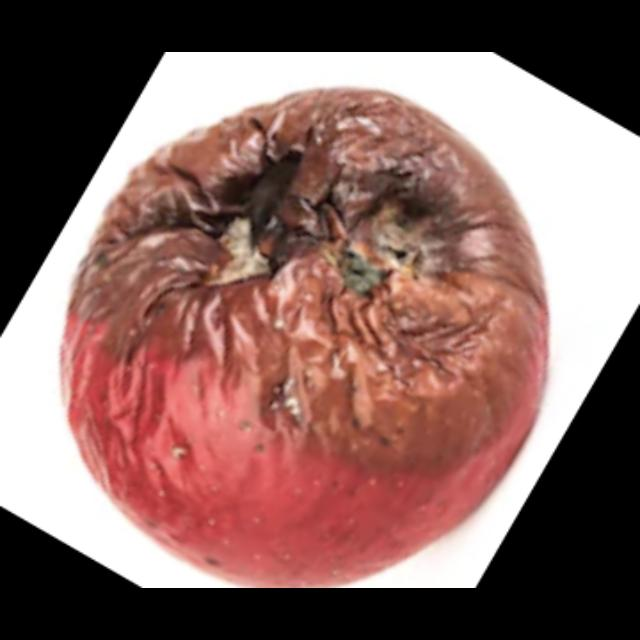Apel Tidak Segar: (56, 77, 554, 588)
